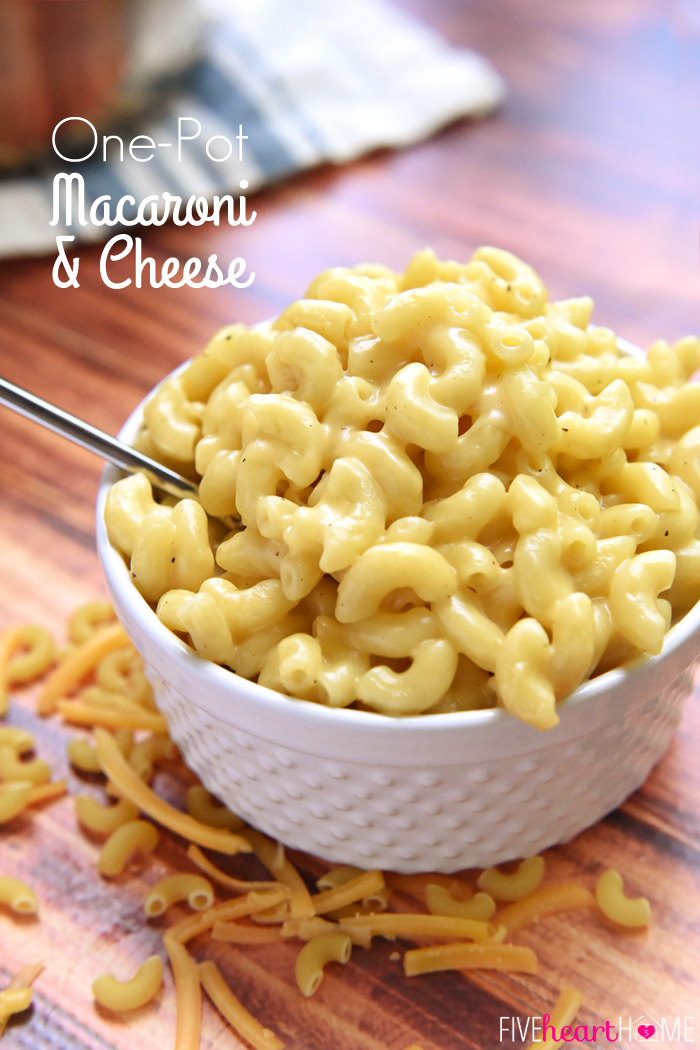macncheese: (116, 241, 700, 737)
